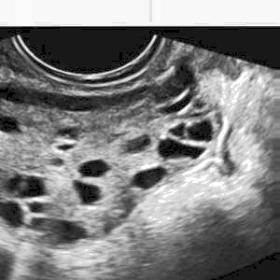PCOS: (160, 137, 207, 163), (35, 216, 83, 241), (72, 173, 101, 205), (9, 175, 46, 197), (136, 165, 168, 188), (187, 117, 215, 143), (119, 138, 154, 155), (2, 202, 24, 226), (58, 124, 84, 142), (80, 160, 110, 175), (4, 115, 21, 136), (28, 202, 50, 213), (172, 126, 188, 141), (57, 143, 79, 151), (196, 102, 212, 110), (52, 160, 68, 168)
